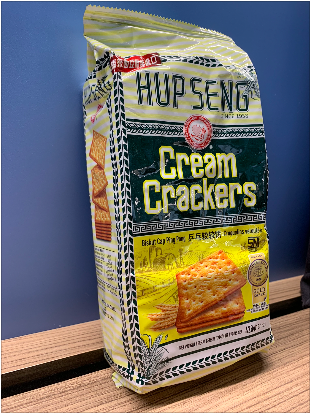Crackers_400-499g: (110, 68, 266, 342)
